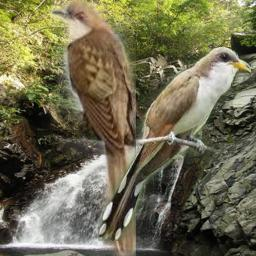Cuckoo: (98, 47, 251, 241), (51, 0, 136, 256)
